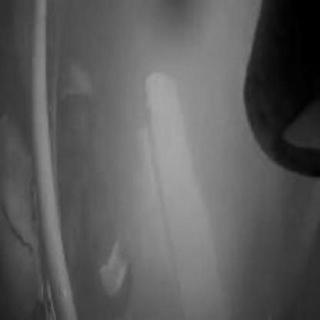other: (16, 14, 84, 310)
